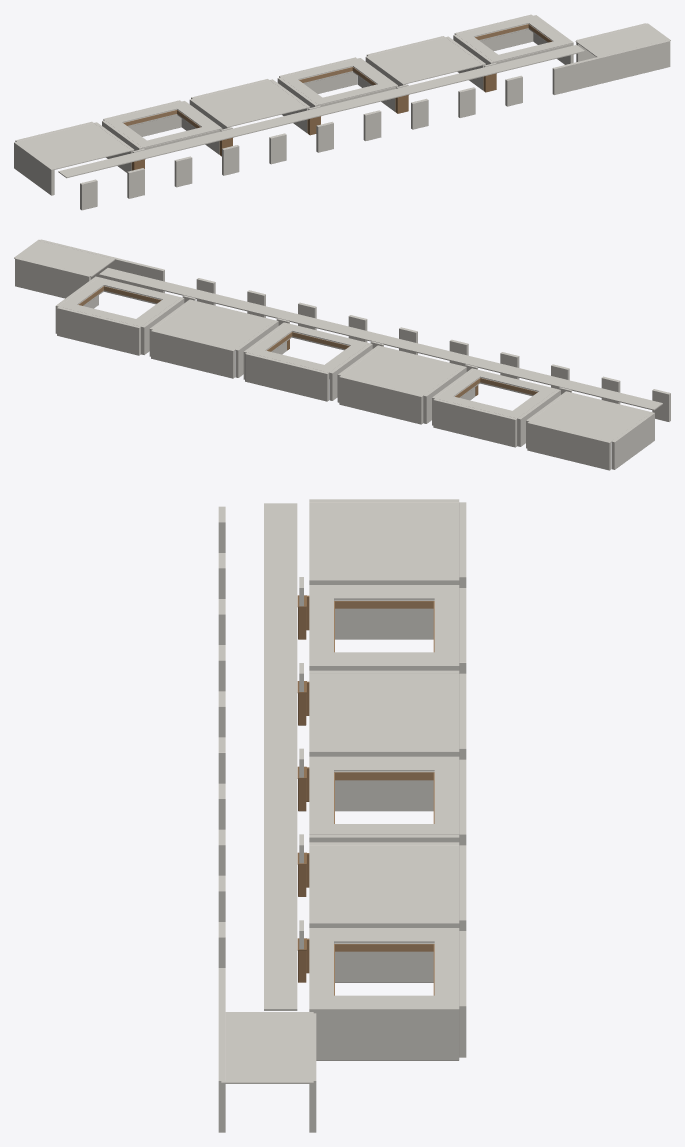
The model's file is forest-shell.glb.
3 renders of one model, top to bottom at view 1: azimuth 30°, elevation 25°; view 2: azimuth 150°, elevation 25°; view 3: azimuth 270°, elevation 25°, orthographic. The views are drawn at different scales.
Visible parts, largest first — view 1: feat-0, lip-s-0, screen-0; view 2: feat-0, lip-s-0; view 3: feat-0, lip-s-0, screen-0.
Part boxes in pixels (x1=…): feat-0: x1=14, y1=14, x2=670, y2=210; lip-s-0: x1=123, y1=24, x2=552, y2=128; screen-0: x1=131, y1=73, x2=496, y2=170; feat-0: x1=14, y1=239, x2=670, y2=470; lip-s-0: x1=78, y1=286, x2=537, y2=397; feat-0: x1=218, y1=499, x2=466, y2=1132; lip-s-0: x1=334, y1=601, x2=434, y2=995; screen-0: x1=297, y1=595, x2=309, y2=982.
Bounding box in the file's own units: 80.92 × 3.36 × 14.54.
